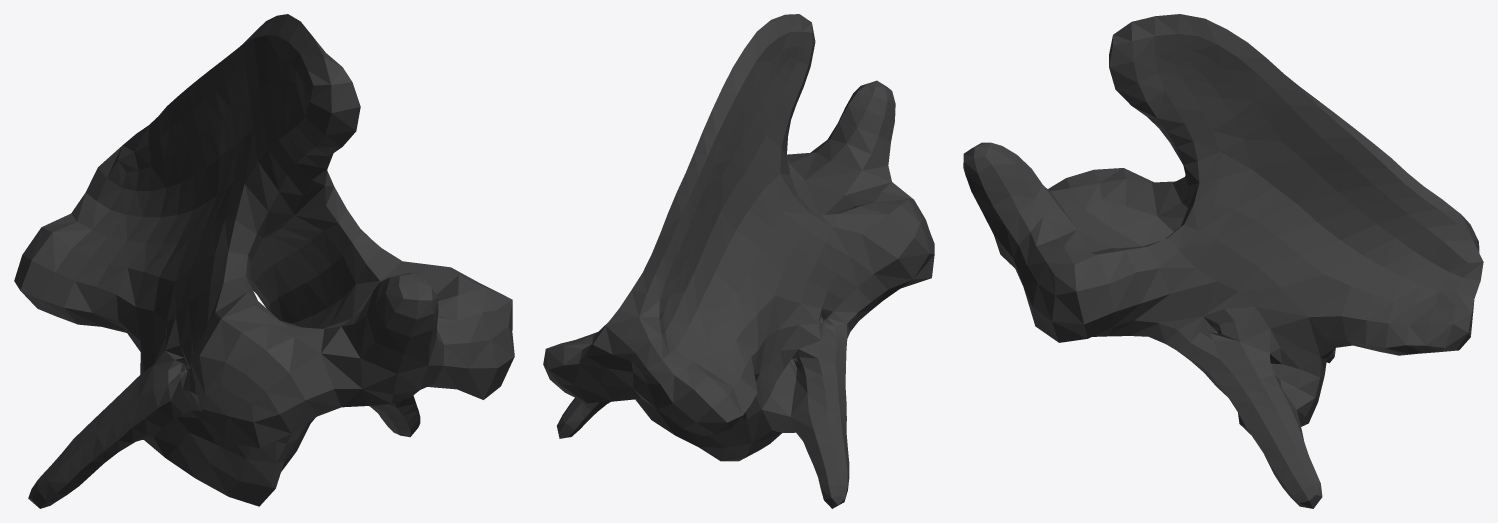
3 views of the same model, side by side, from view 1: azimuth 30°, elevation 25°; view 2: azimuth 150°, elevation 25°; view 3: azimuth 270°, elevation 25° (orthographic). The views are drawn at different scales.
Parts seen in each view (by area): view 1: C2; view 2: C2; view 3: C2.
Boxes of the visible parts, box(x1,y1,x2,y2) form: C2: box(14, 14, 514, 508); C2: box(543, 14, 934, 508); C2: box(963, 14, 1483, 508).
Size of the model in its own units: 2.53 by 3.38 by 3.73.
1 material, 1 textured.
